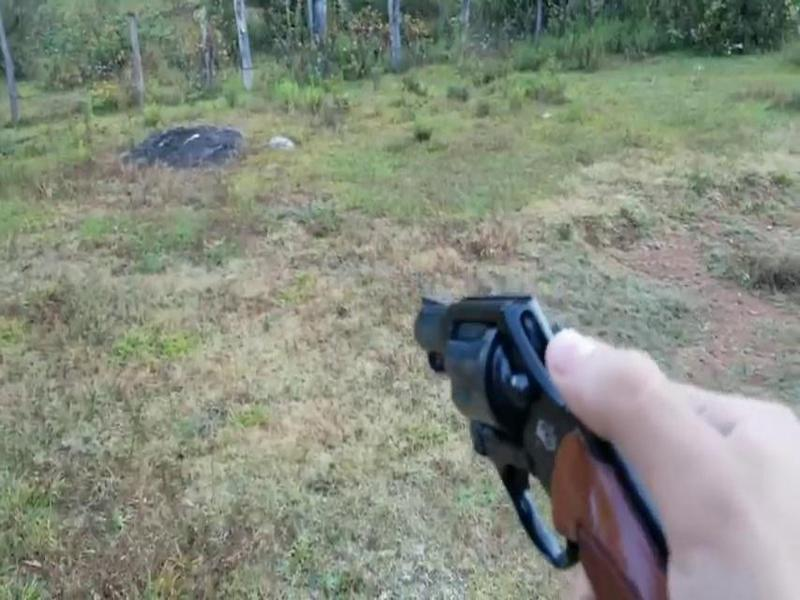Revolver: (406, 277, 695, 595)
